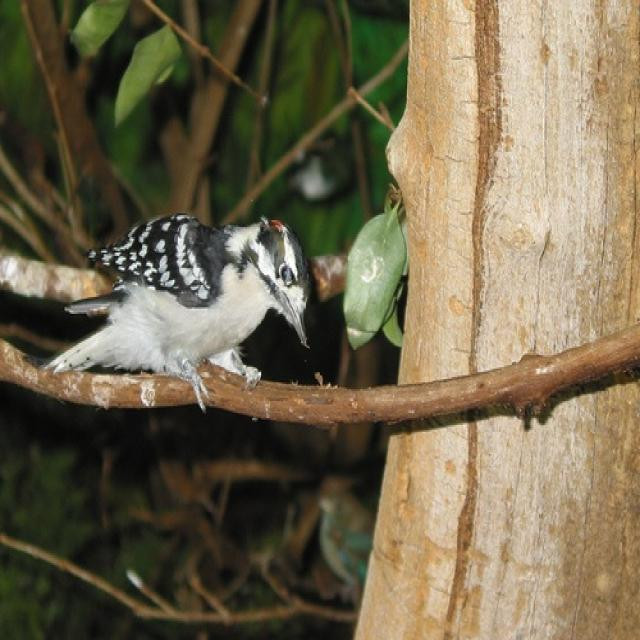bird: (42, 210, 308, 413)
